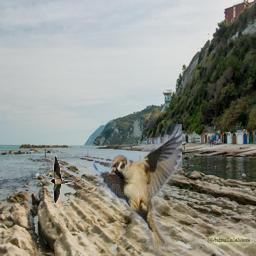Sparrow: (93, 124, 182, 250)
Swallow: (50, 155, 74, 204)
